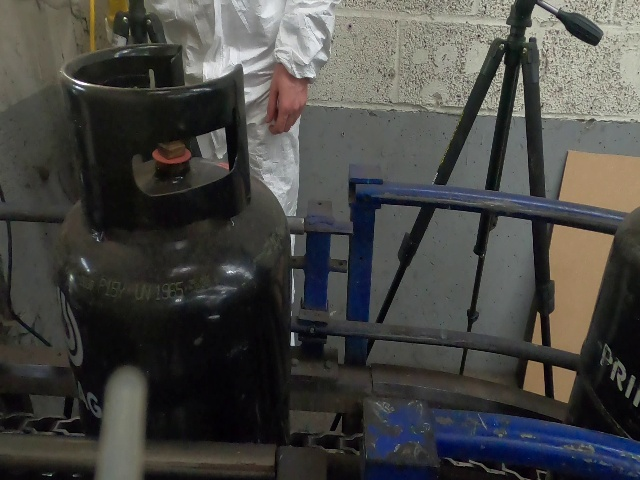gas_bottle: (0, 7, 636, 474)
